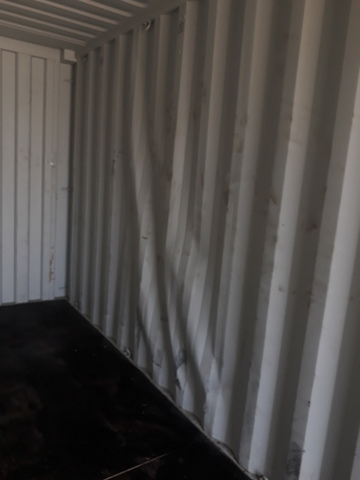dented: (110, 135, 246, 426)
